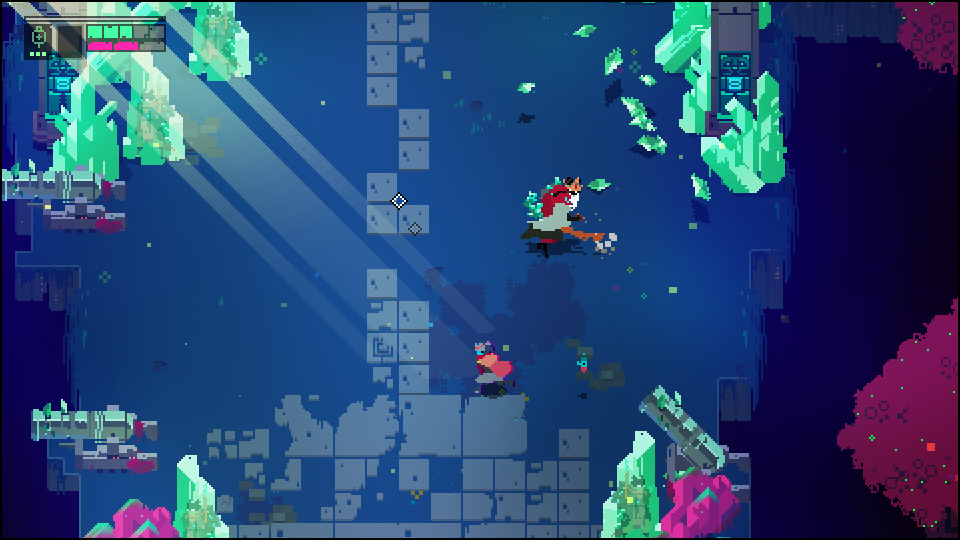hanged_man: (522, 172, 586, 256)
player: (471, 336, 513, 395)
